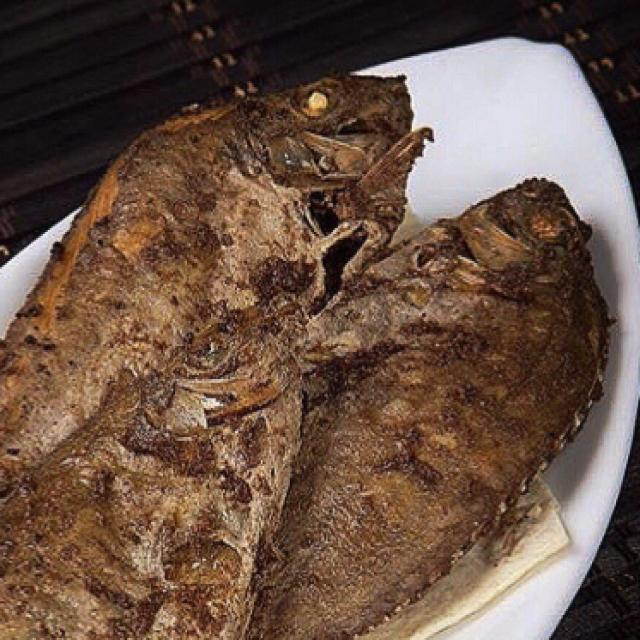Fried Fish: (13, 36, 616, 585)
